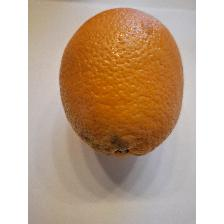Orange: (56, 6, 186, 160)
